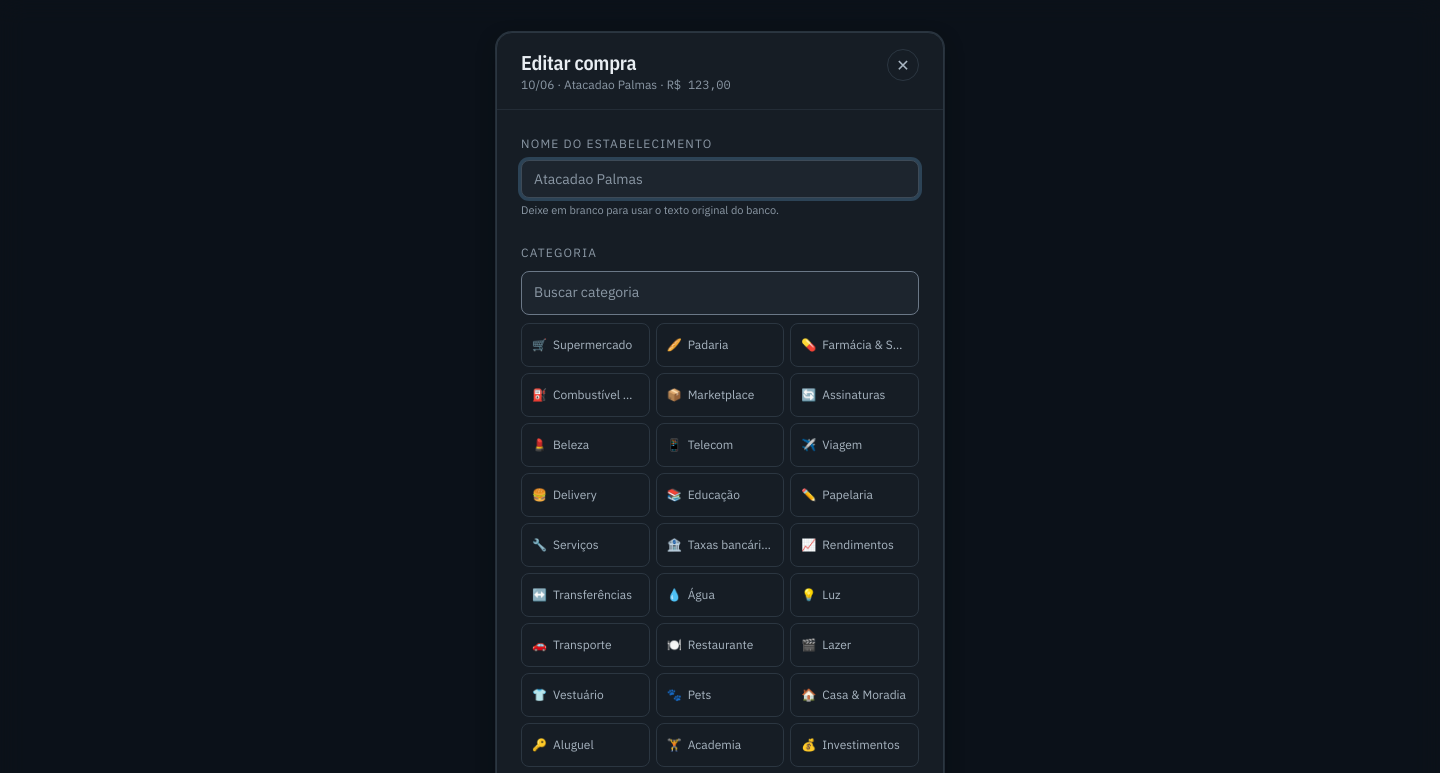
it: EditarCompra — a correção alcança o histórico › a confirmação declara o alcance — não fala no singular mexendo em três
The image size is (1440, 773).
Click the button "🛒 Supermercado": (585, 344) x1=521 y1=322 x2=650 y2=366
(page scrolled)
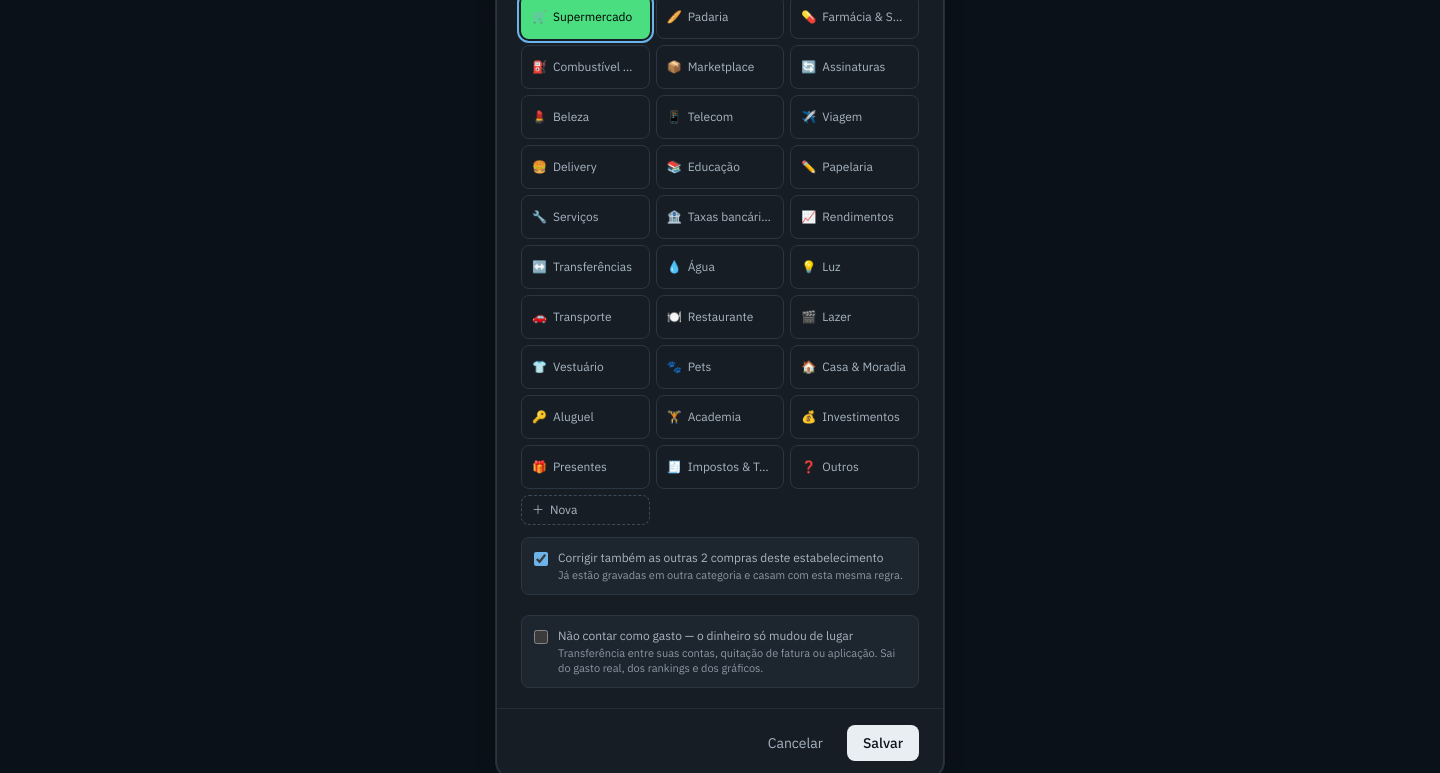
Click the button "Salvar": (883, 744) x1=847 y1=726 x2=919 y2=762
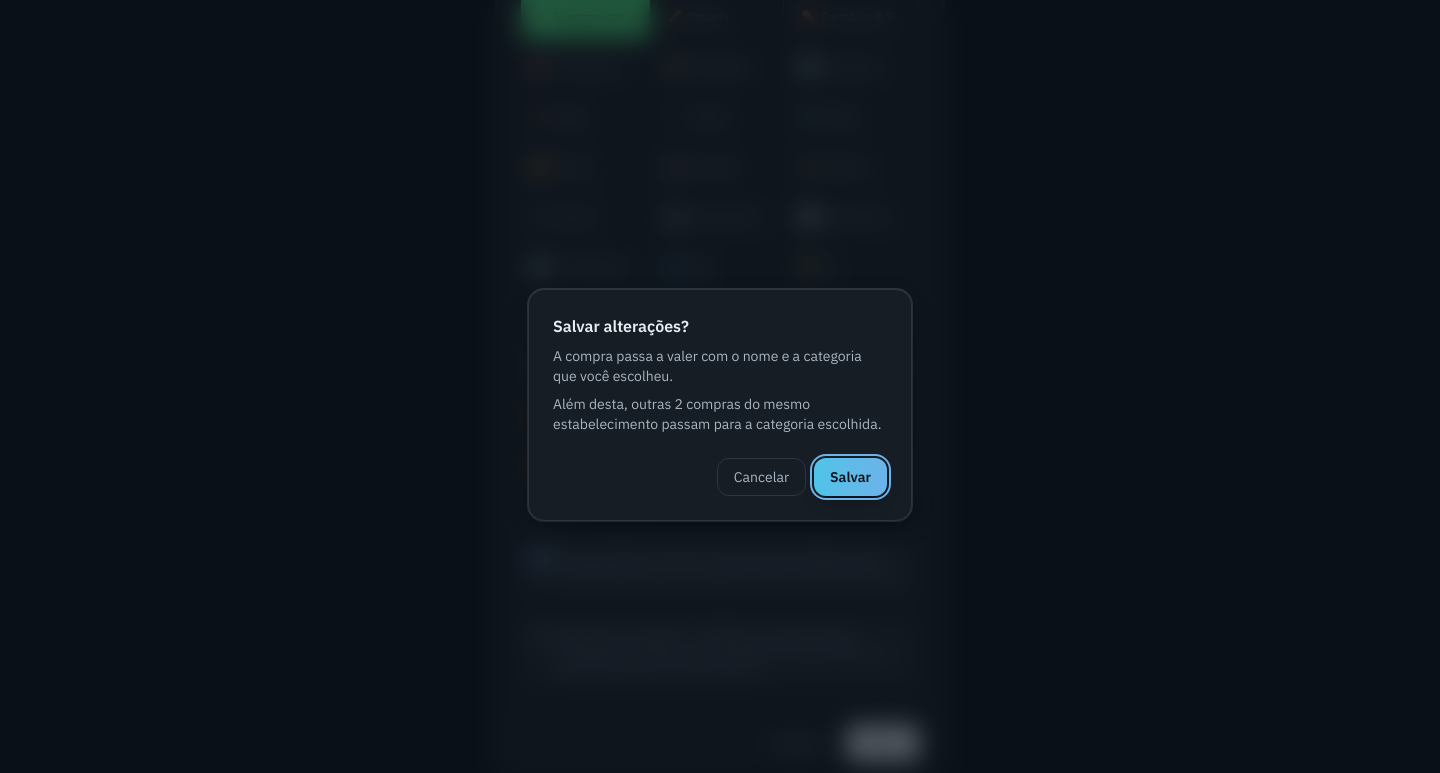
expect the text "outras 2 compras" is shown: met, box x1=553 y1=395 x2=882 y2=433
